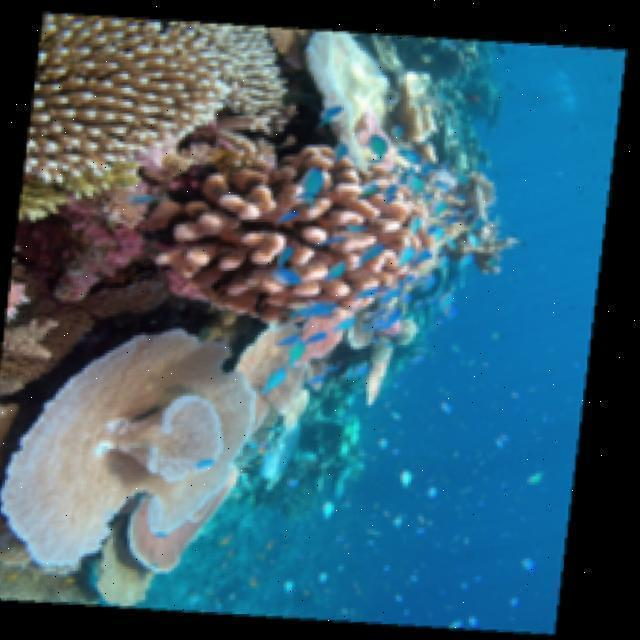Healthy Coral: (14, 321, 306, 621), (152, 110, 472, 350), (22, 6, 288, 183)
